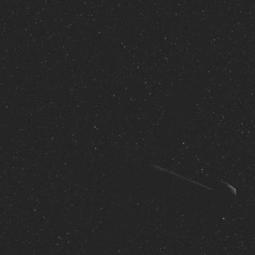xmm_newton: (140, 150, 237, 227)
